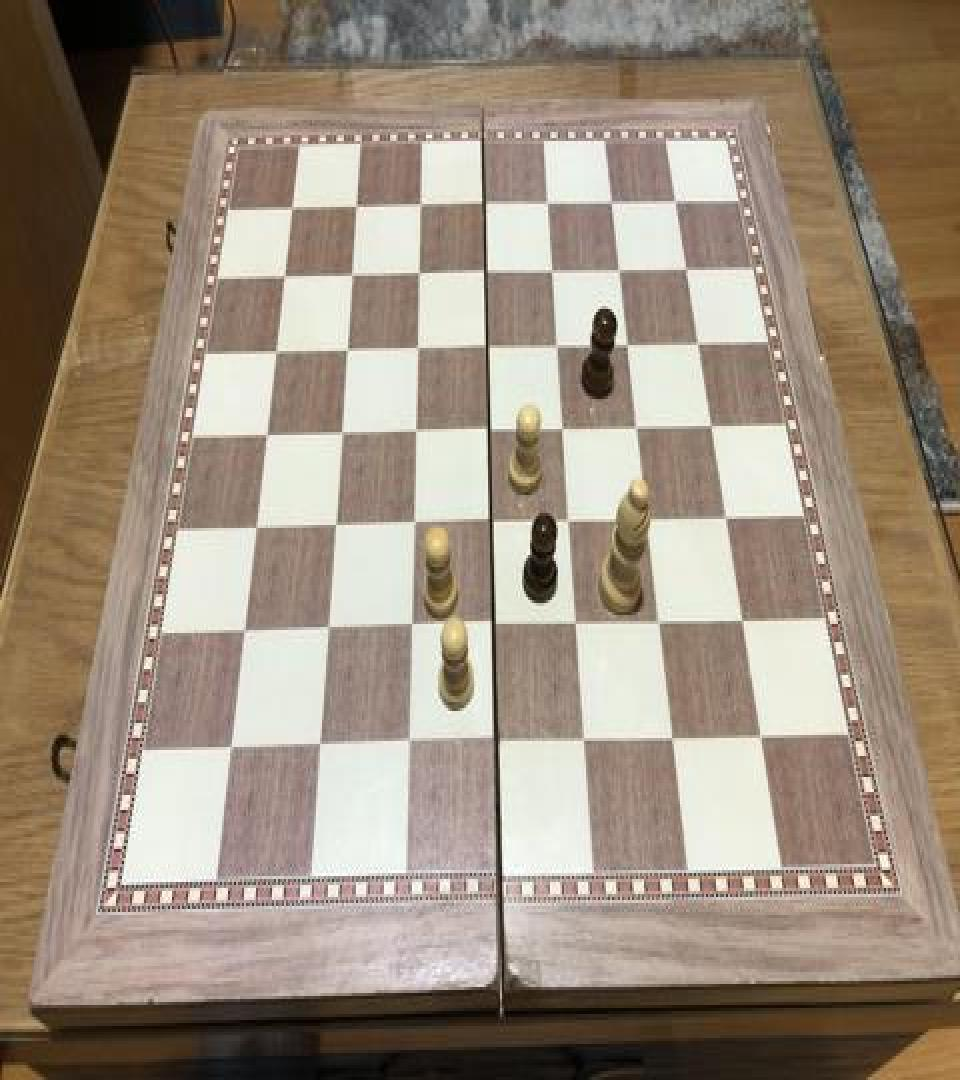xcorner: (399, 610, 423, 647), (397, 727, 421, 764), (664, 183, 688, 219), (600, 184, 624, 220), (536, 184, 560, 220), (472, 186, 496, 222), (344, 189, 368, 225), (279, 189, 303, 225), (675, 250, 699, 286), (608, 252, 632, 288), (541, 254, 565, 290), (474, 255, 498, 291), (406, 255, 430, 291), (339, 256, 363, 292), (272, 258, 296, 294), (687, 326, 711, 362), (617, 327, 641, 363), (476, 330, 500, 366), (405, 332, 429, 368), (334, 332, 358, 368), (264, 333, 288, 369), (701, 410, 725, 446), (627, 410, 651, 446), (552, 411, 576, 447), (403, 414, 427, 450), (329, 416, 353, 452), (254, 417, 278, 453), (716, 501, 740, 537), (637, 502, 661, 538), (559, 504, 583, 540), (480, 506, 504, 542), (401, 507, 425, 543), (323, 508, 347, 544), (244, 510, 268, 546), (733, 604, 757, 640), (650, 606, 674, 642), (566, 608, 590, 644), (483, 609, 507, 645), (316, 612, 340, 648), (233, 614, 257, 650), (752, 722, 776, 758), (664, 723, 688, 759), (575, 724, 599, 760), (486, 726, 510, 762), (308, 729, 332, 765), (220, 730, 244, 766), (408, 188, 432, 223), (546, 329, 570, 364), (478, 413, 502, 448)
